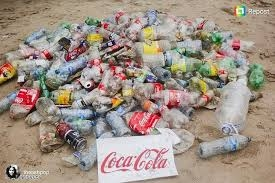plastic: (215, 79, 254, 135), (197, 133, 253, 160), (9, 78, 41, 122), (122, 108, 169, 135), (49, 121, 89, 151), (224, 37, 259, 55), (248, 60, 269, 89)
